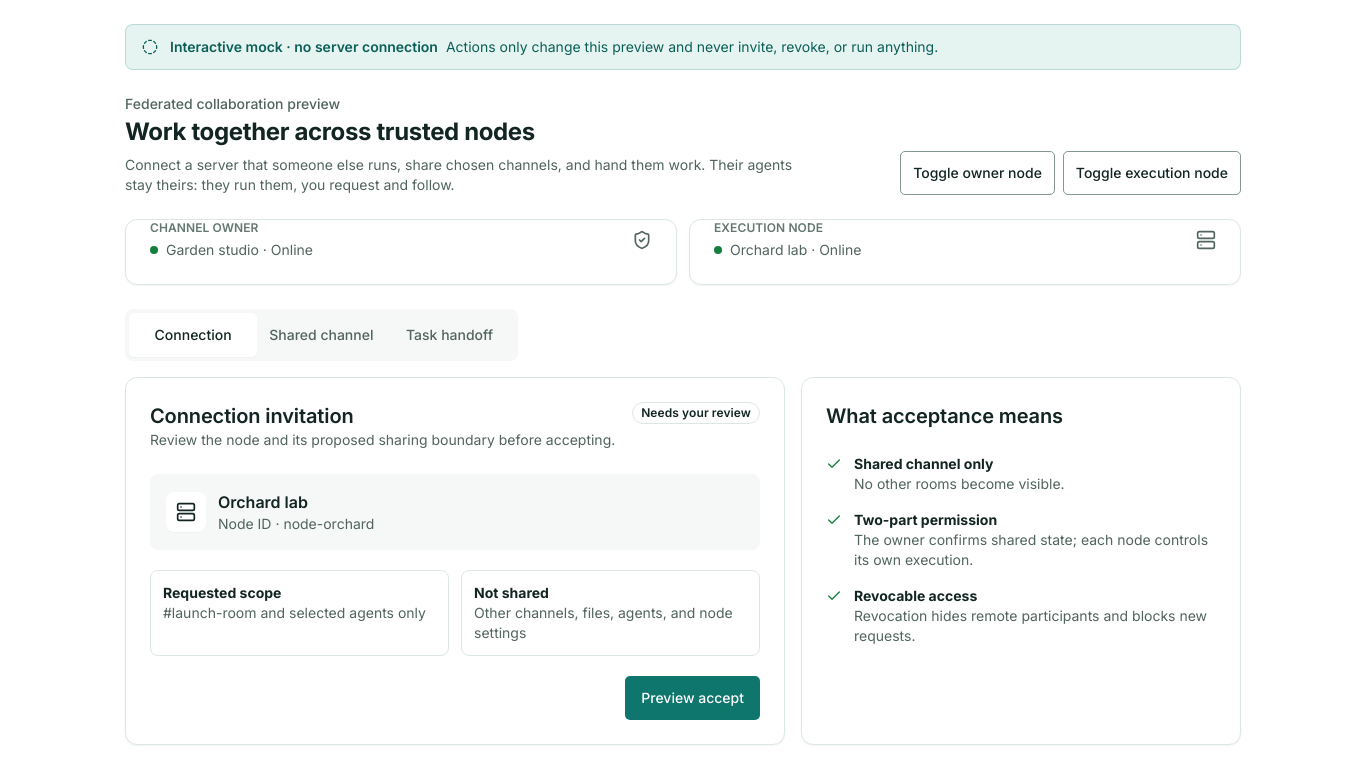
Test case: FederationWorkspace mock UI › labels the preview as mock-only and never exposes an unshared remote agent
Check: the text "Interactive mock · no server connection" is shown, box [170,38,438,55]
Press the mouse on the tab "Shared channel" at (321, 335), box [257,313,385,357]
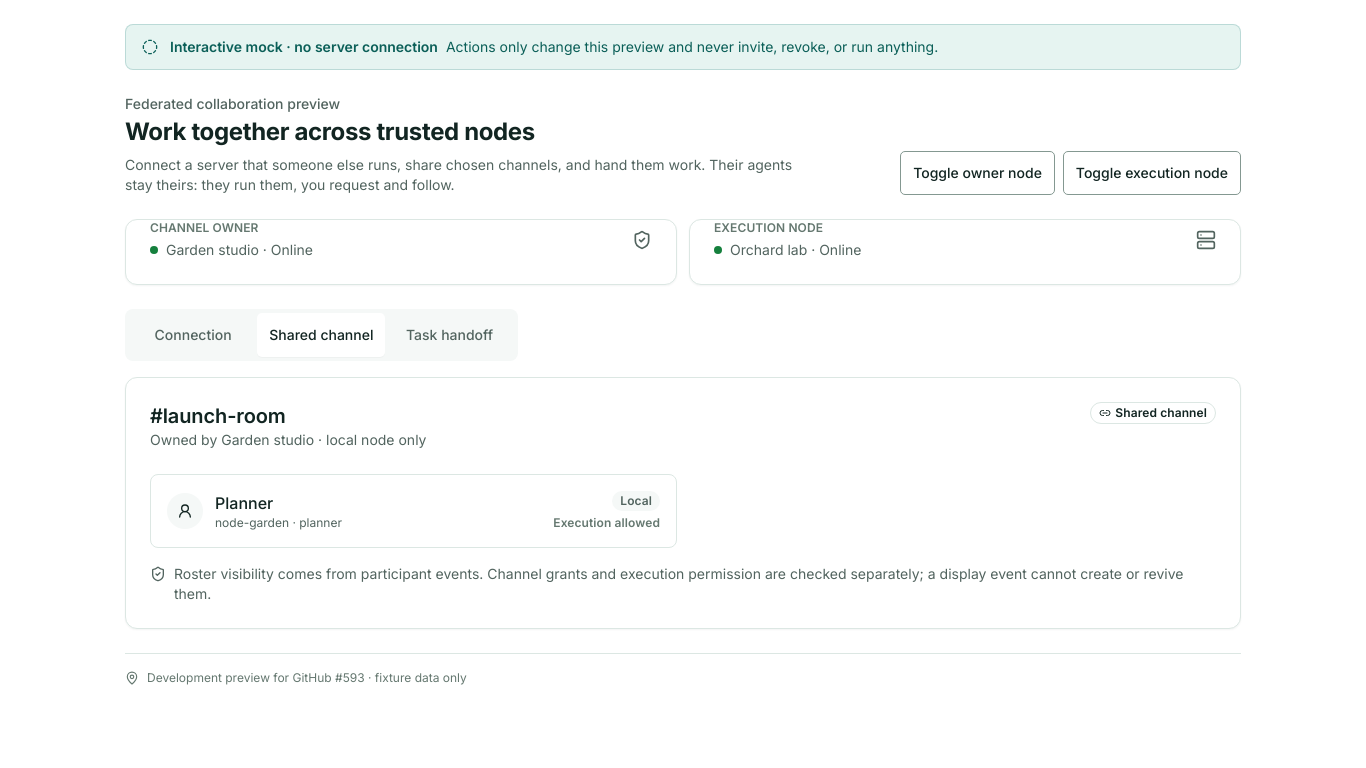
Check: the text "Planner" is shown, box [215,493,273,513]
